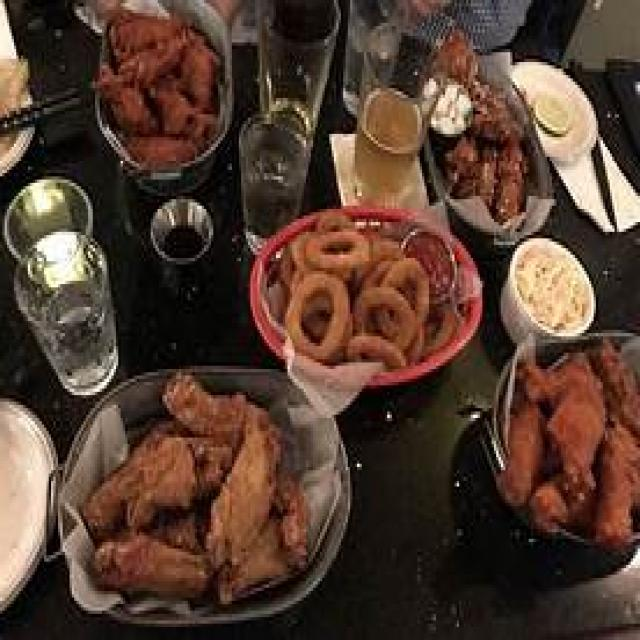Chicken Wings: (72, 376, 315, 604), (506, 327, 633, 555), (107, 10, 225, 170), (438, 59, 522, 212)
Onion Rings: (280, 228, 448, 352)
